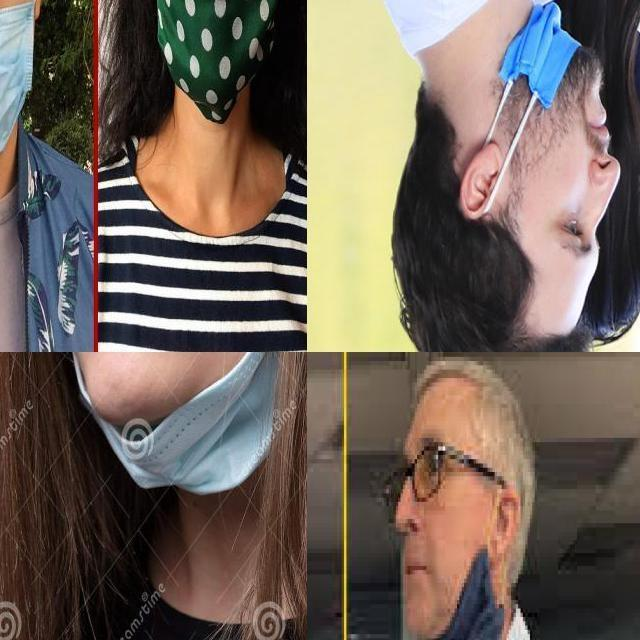hairnet: (493, 0, 611, 156), (393, 527, 507, 639)
